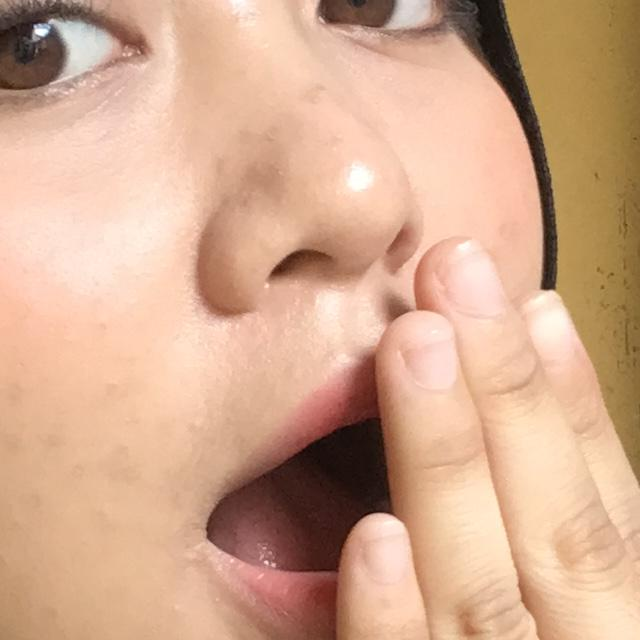ngantuk: (170, 166, 640, 640)
